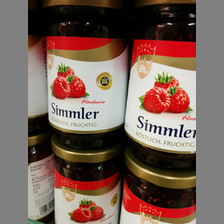jam: (124, 1, 196, 172), (46, 1, 126, 151), (50, 138, 123, 224), (118, 148, 196, 224)
